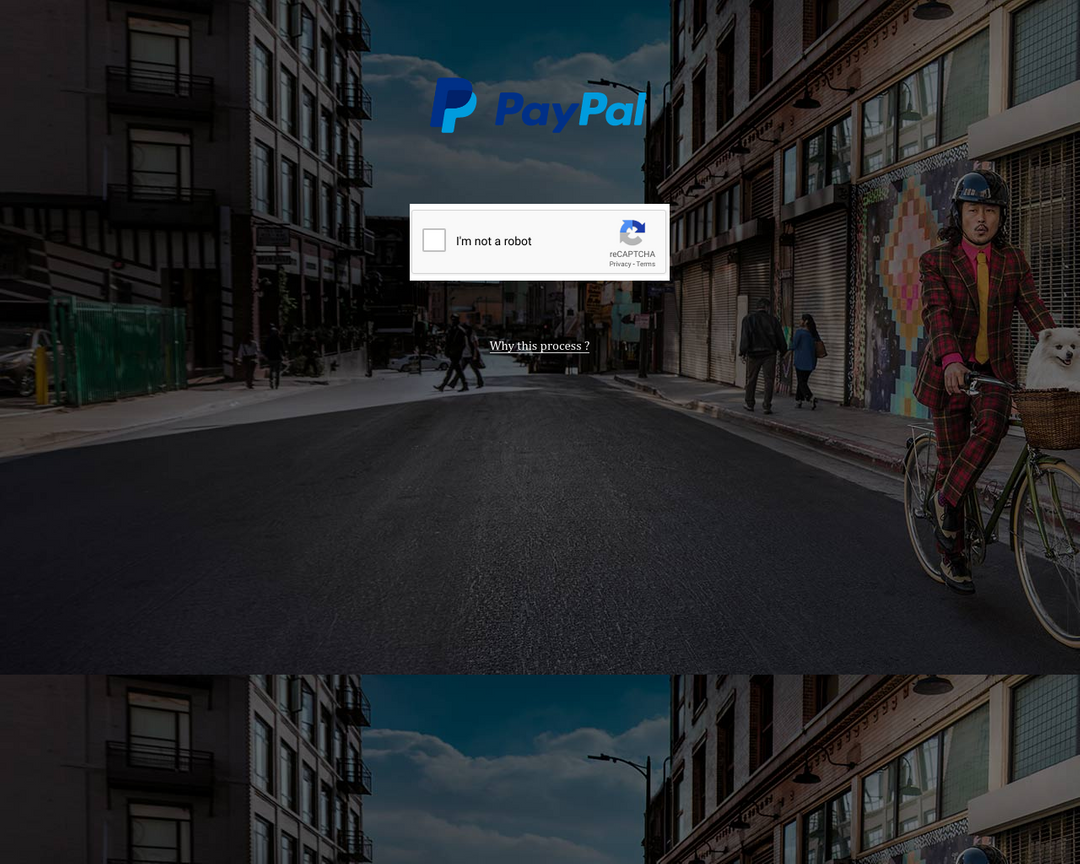Paypal: (425, 74, 650, 143)
